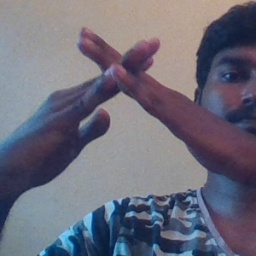W: (56, 19, 186, 149)
